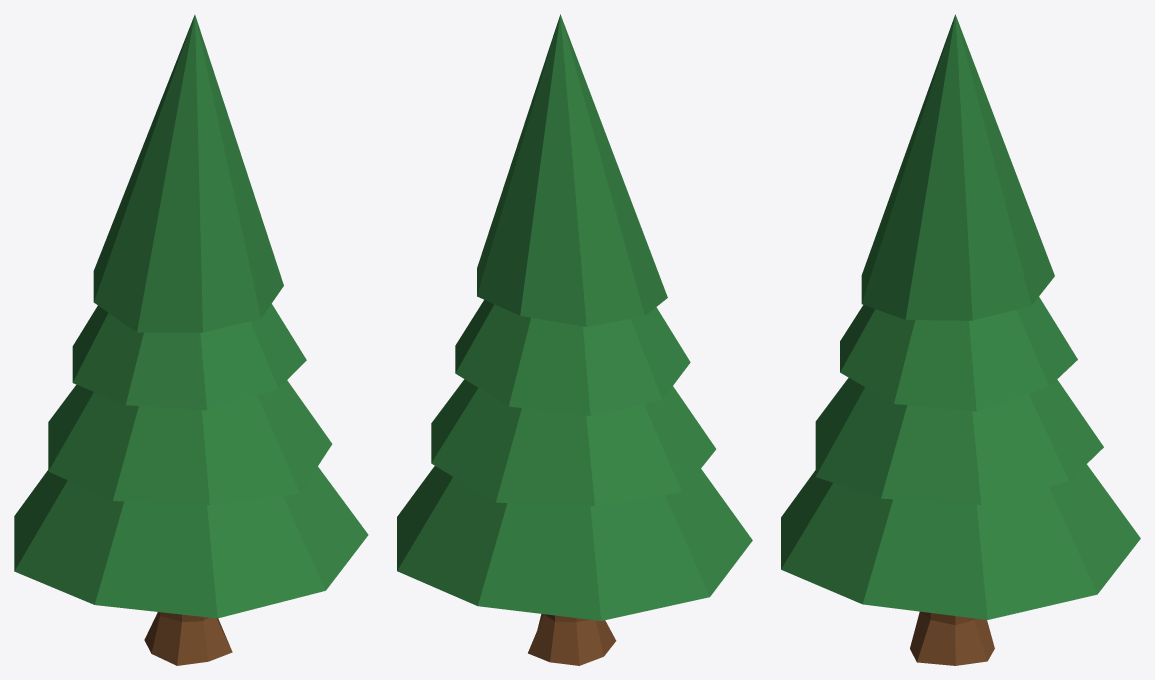
Rendered from pineTree.fbx.
3 views of the same model, side by side, from view 1: azimuth 30°, elevation 25°; view 2: azimuth 150°, elevation 25°; view 3: azimuth 270°, elevation 25° (orthographic).
Visible parts, largest first — view 1: pineTrunk; view 2: pineTrunk; view 3: pineTrunk.
Boxes of the visible parts, x1=… form: pineTrunk: x1=14, y1=14, x2=368, y2=665; pineTrunk: x1=397, y1=14, x2=752, y2=665; pineTrunk: x1=781, y1=14, x2=1140, y2=665.
Bounding box in the file's own units: 262 × 506 × 258.
Materials: 1 (1 with a texture image).
